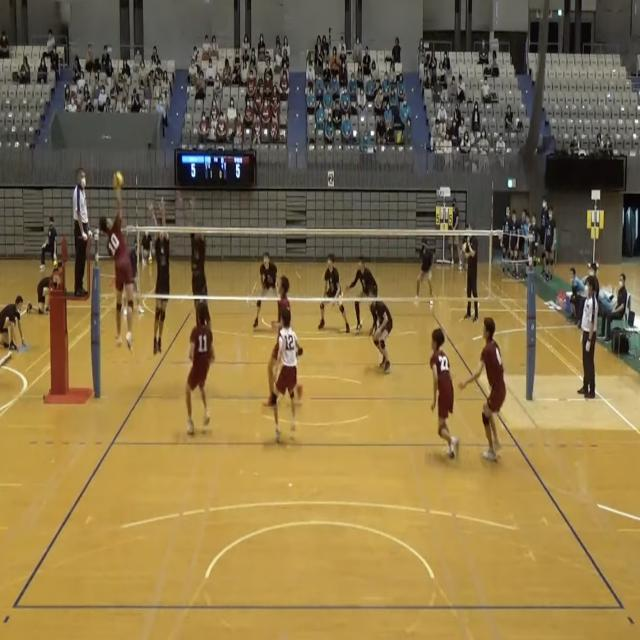spike: (94, 170, 142, 353)
